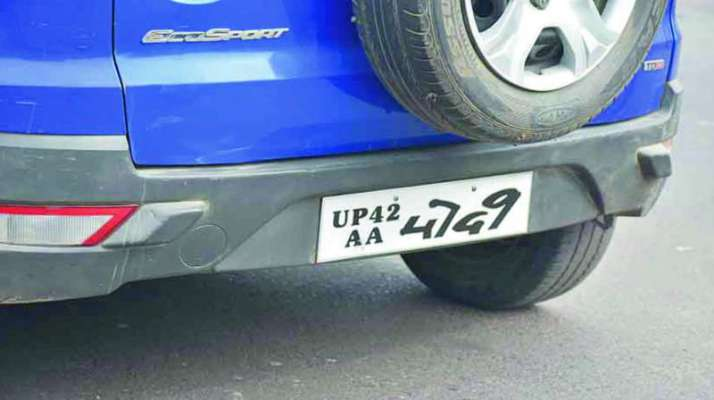number_plate: (320, 171, 533, 252)
